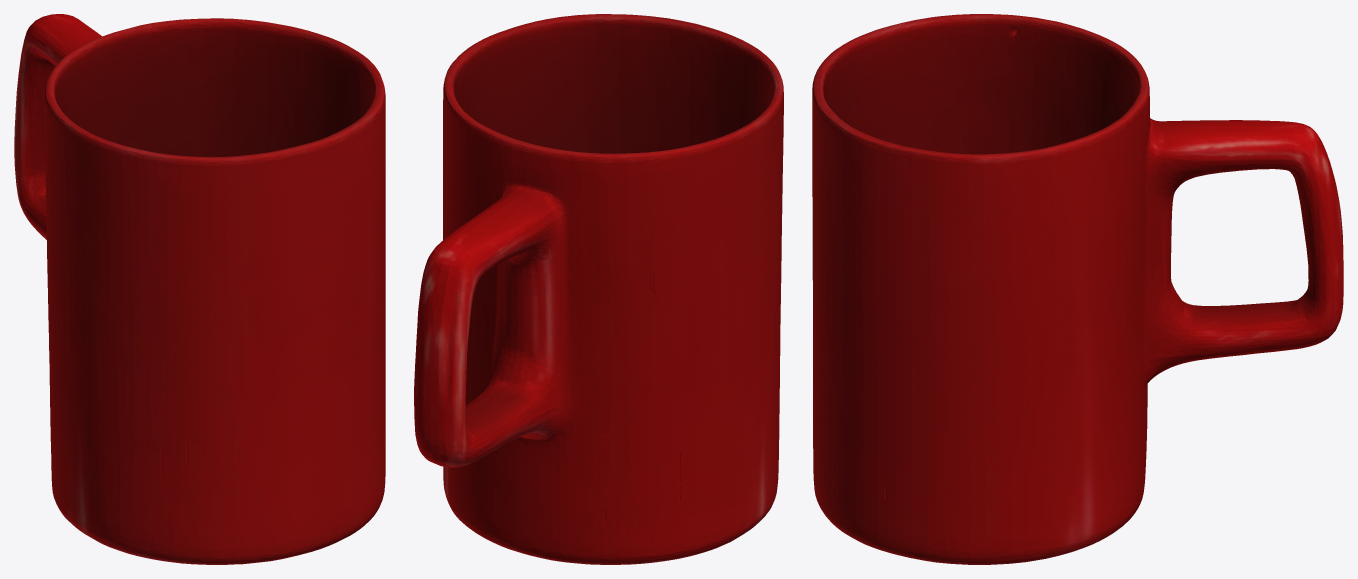
File: cup.glb
The picture shows the model from 3 angles, left to right: view 1: azimuth 30°, elevation 25°; view 2: azimuth 150°, elevation 25°; view 3: azimuth 270°, elevation 25°; orthographic projection.
Parts seen in each view (by area): view 1: world; view 2: world; view 3: world.
Part boxes in pixels (x1,y1,x2,y2): world: (14, 14, 385, 564); world: (414, 14, 783, 564); world: (812, 14, 1343, 564).
Bounding box in the file's own units: 0.6439 × 0.8601 × 1.
1 material, 1 textured.
